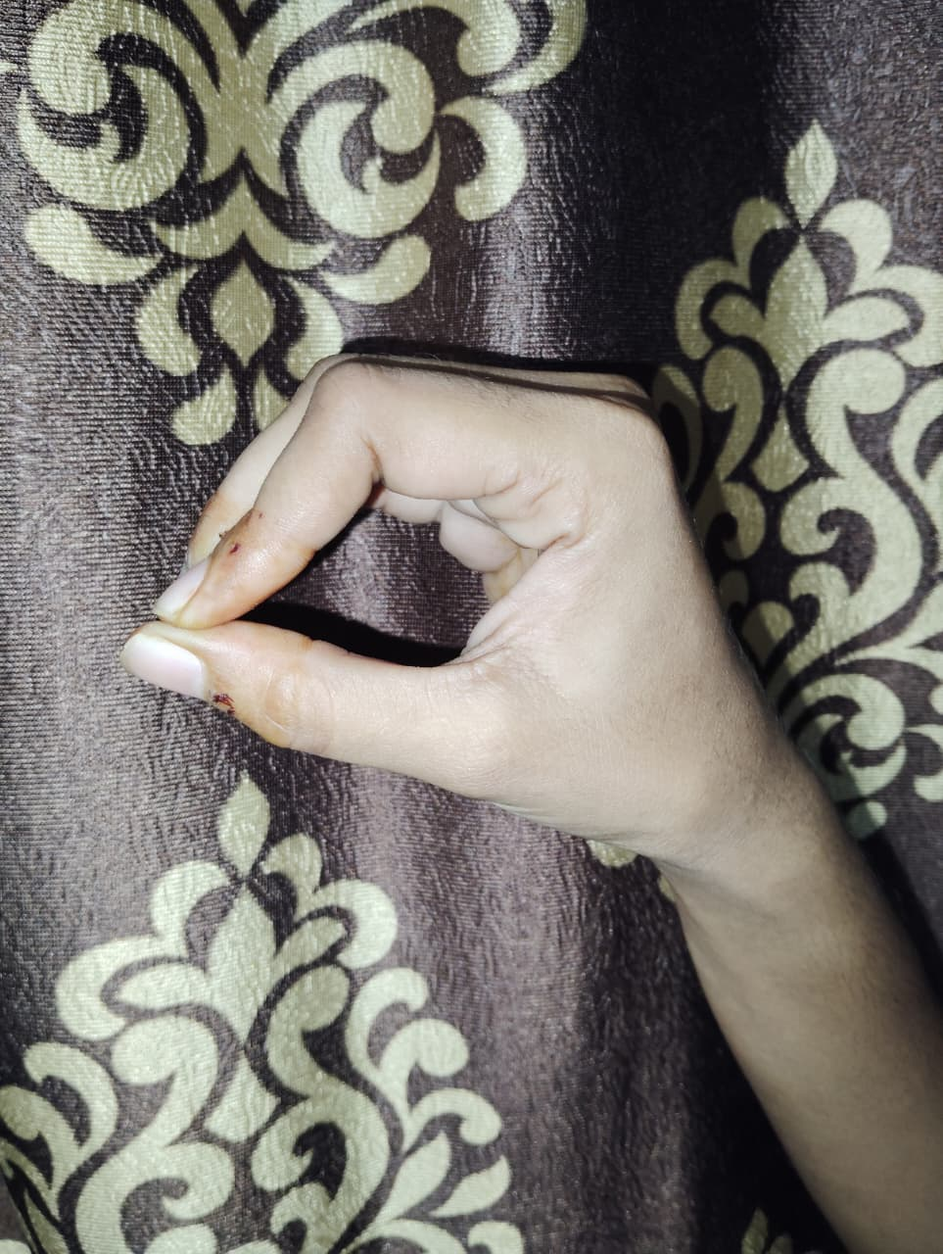O: (125, 349, 708, 806)
